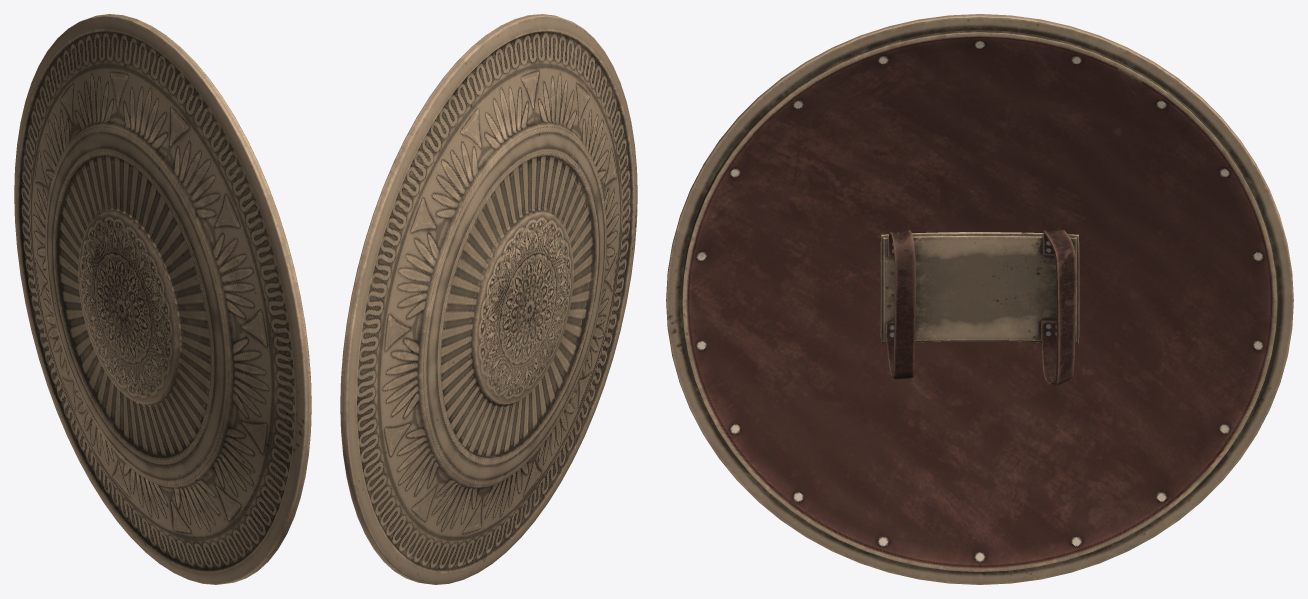
Rendered from Arab_Shield_02.fbx.
The picture shows the model from 3 angles, left to right: view 1: azimuth 30°, elevation 25°; view 2: azimuth 150°, elevation 25°; view 3: azimuth 270°, elevation 25°; orthographic projection. The views are drawn at different scales.
Visible parts, largest first — view 1: Arab_Shield_02_LOD0; view 2: Arab_Shield_02_LOD0; view 3: Arab_Shield_02_LOD0.
Boxes of the visible parts, x1,y1,x2,y2 form: Arab_Shield_02_LOD0: [14, 14, 311, 584]; Arab_Shield_02_LOD0: [340, 14, 637, 584]; Arab_Shield_02_LOD0: [666, 14, 1293, 584].
Size of what is drawn, in the model's own units: 6.97 by 60.66 by 60.66.
